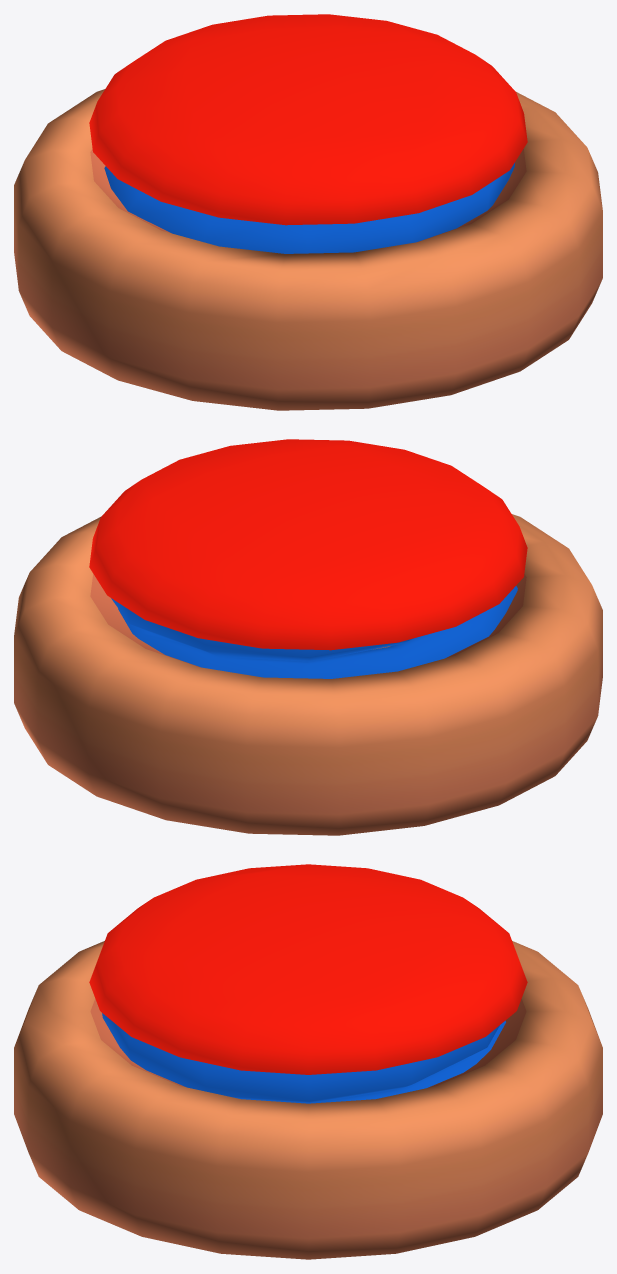
Rendered from Trampoline_01.glb.
3 renders of one model, top to bottom at view 1: azimuth 30°, elevation 25°; view 2: azimuth 150°, elevation 25°; view 3: azimuth 270°, elevation 25°, orthographic.
Visible parts, largest first — view 1: Trampoline_01; view 2: Trampoline_01; view 3: Trampoline_01.
Part boxes in pixels (x1,y1,x2,y2): Trampoline_01: (14, 14, 602, 410); Trampoline_01: (14, 439, 602, 835); Trampoline_01: (14, 864, 602, 1259).
Bounding box in the file's own units: 2.37 × 1 × 2.37.
Materials: 2 (2 with a texture image).
